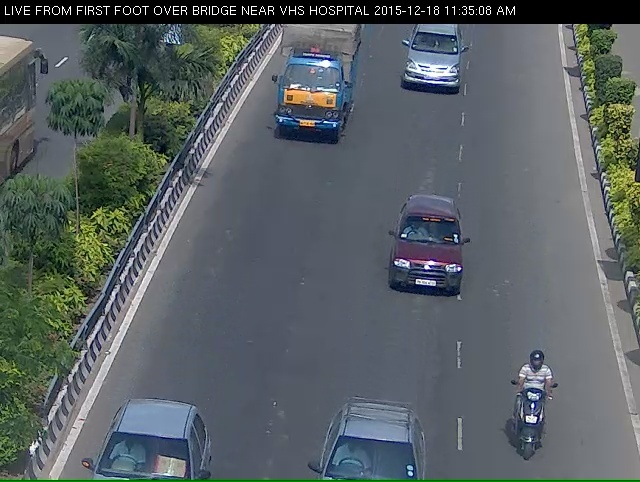Bus: (267, 9, 347, 159)
Car: (380, 200, 481, 328), (405, 26, 467, 111), (87, 436, 201, 481)
Person: (509, 380, 564, 480)
